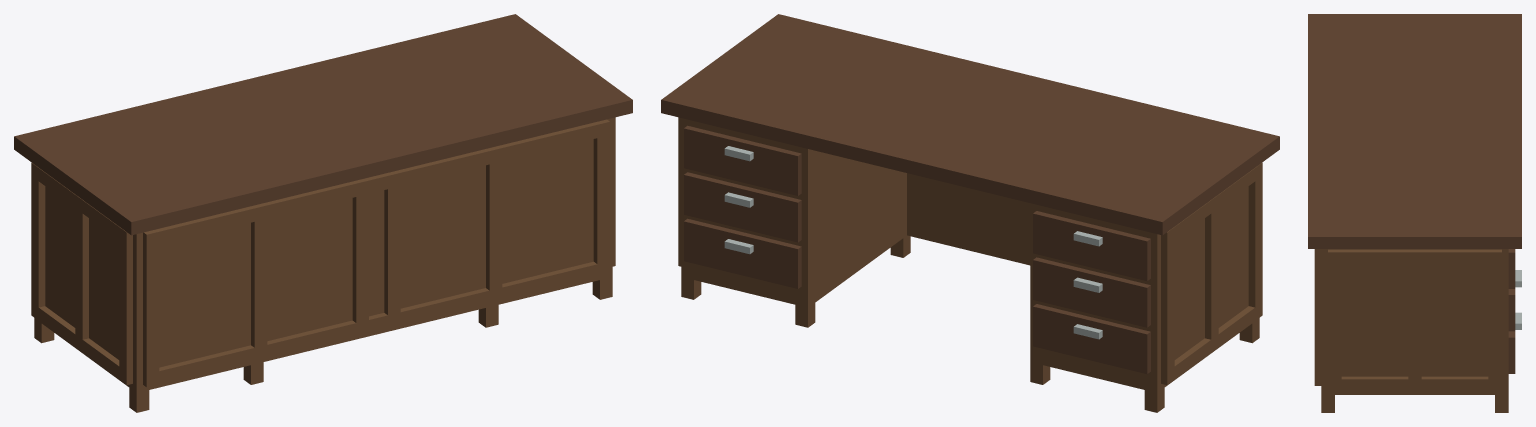
The model's file is table_08.glb.
3 renders of one model, left to right at view 1: azimuth 30°, elevation 25°; view 2: azimuth 150°, elevation 25°; view 3: azimuth 270°, elevation 25°, orthographic. The views are drawn at different scales.
Visible parts, largest first — view 1: Untitled; view 2: Untitled; view 3: Untitled.
Part boxes in pixels (x1=…): Untitled: x1=14, y1=14, x2=632, y2=412; Untitled: x1=661, y1=14, x2=1279, y2=412; Untitled: x1=1308, y1=14, x2=1521, y2=412.
Bounding box in the file's own units: 2.37 × 0.9 × 0.96.
Materials: 1 (1 with a texture image).
